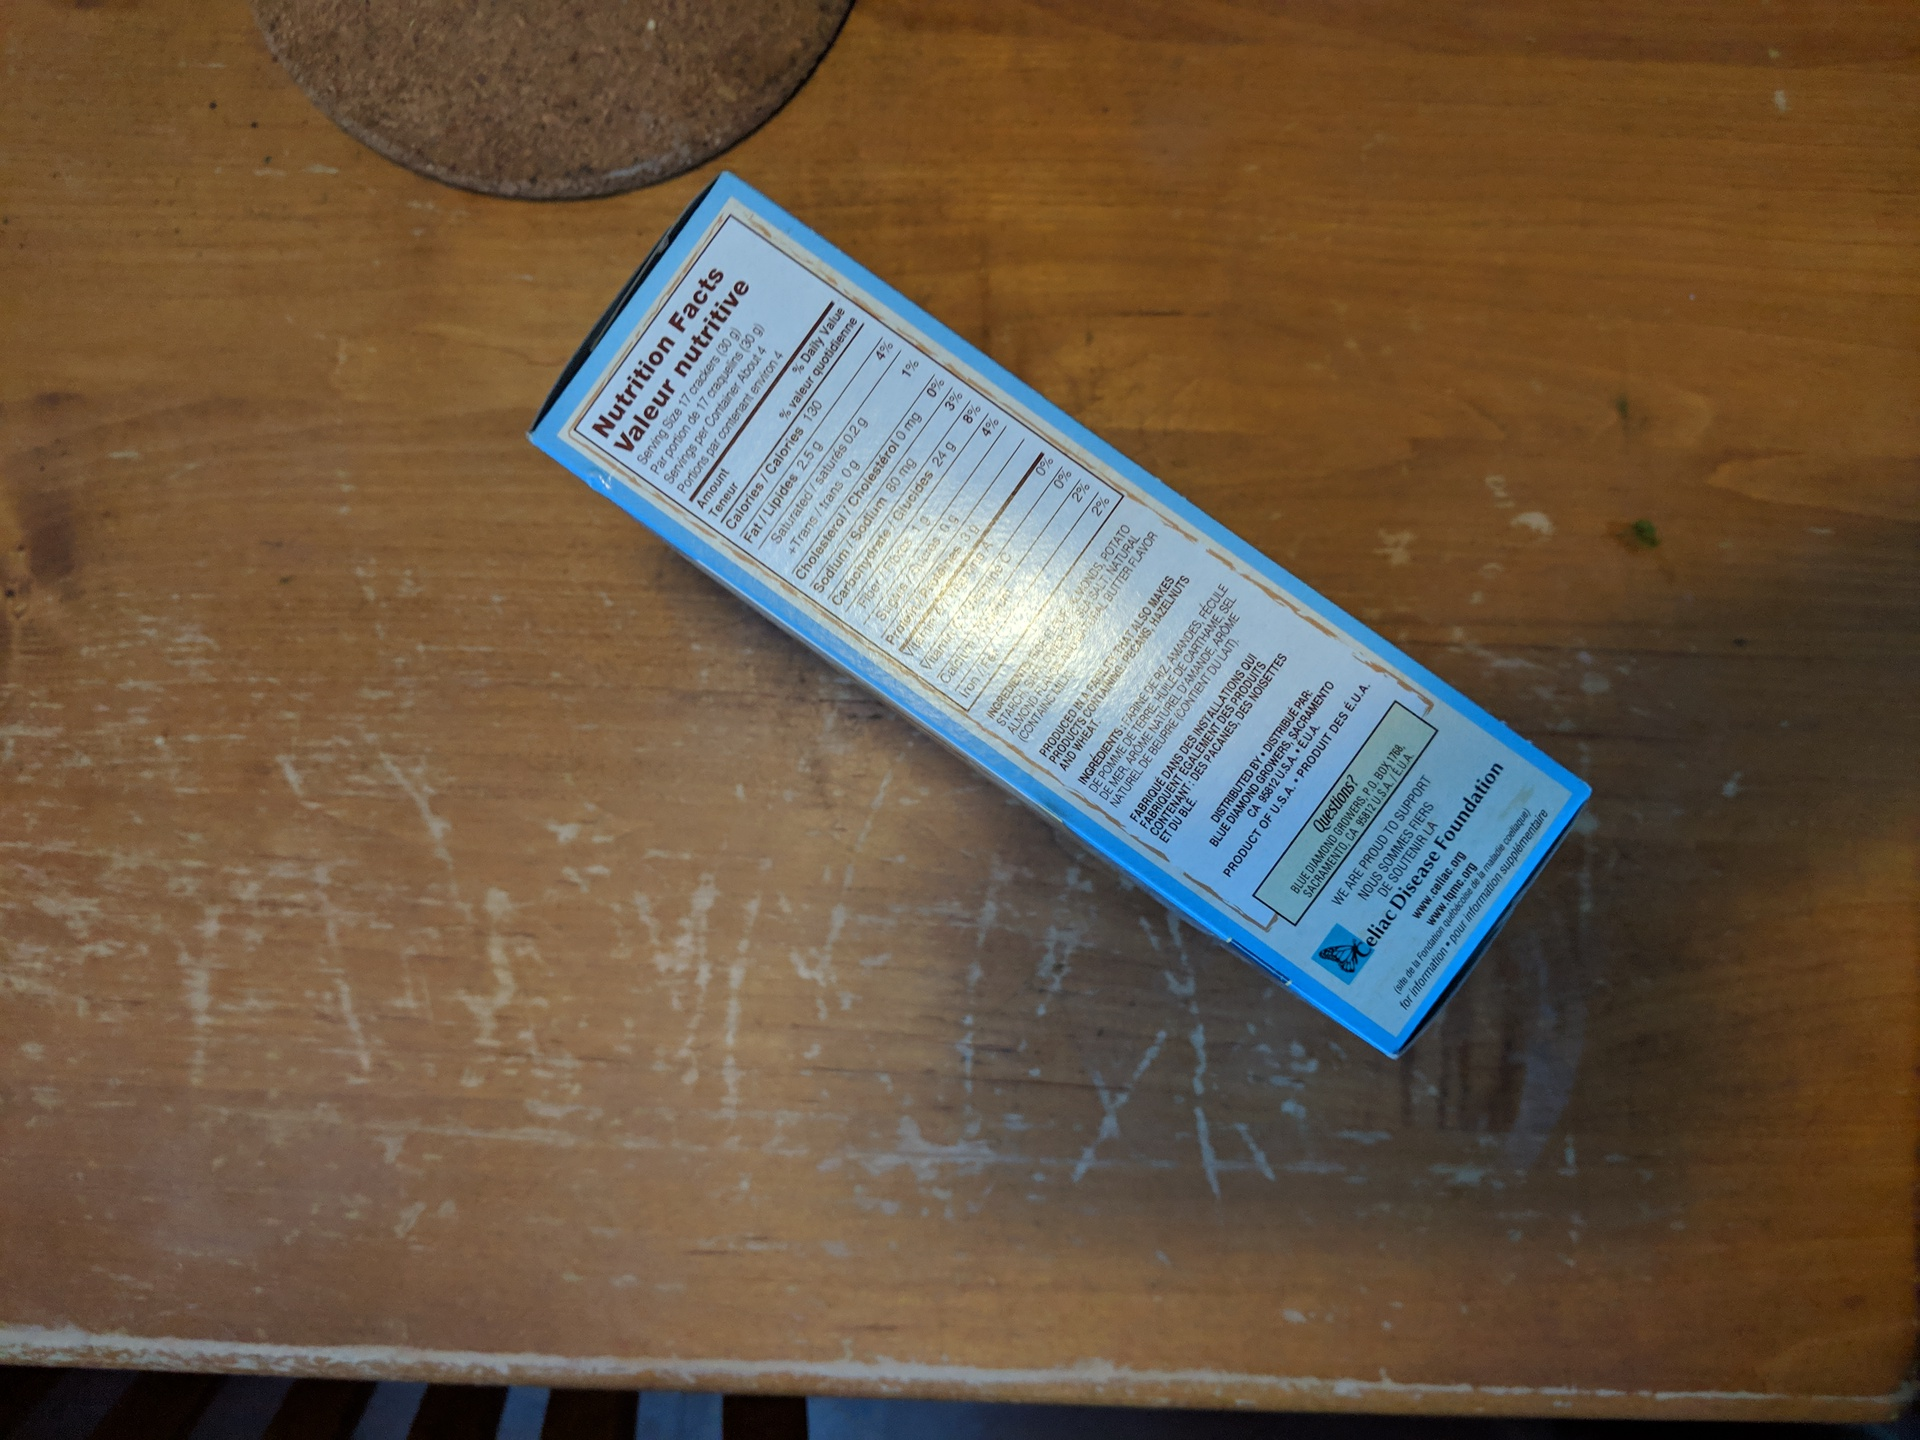blue_diamond_nut_thins_almond_seasalt: (606, 250, 1510, 933)
